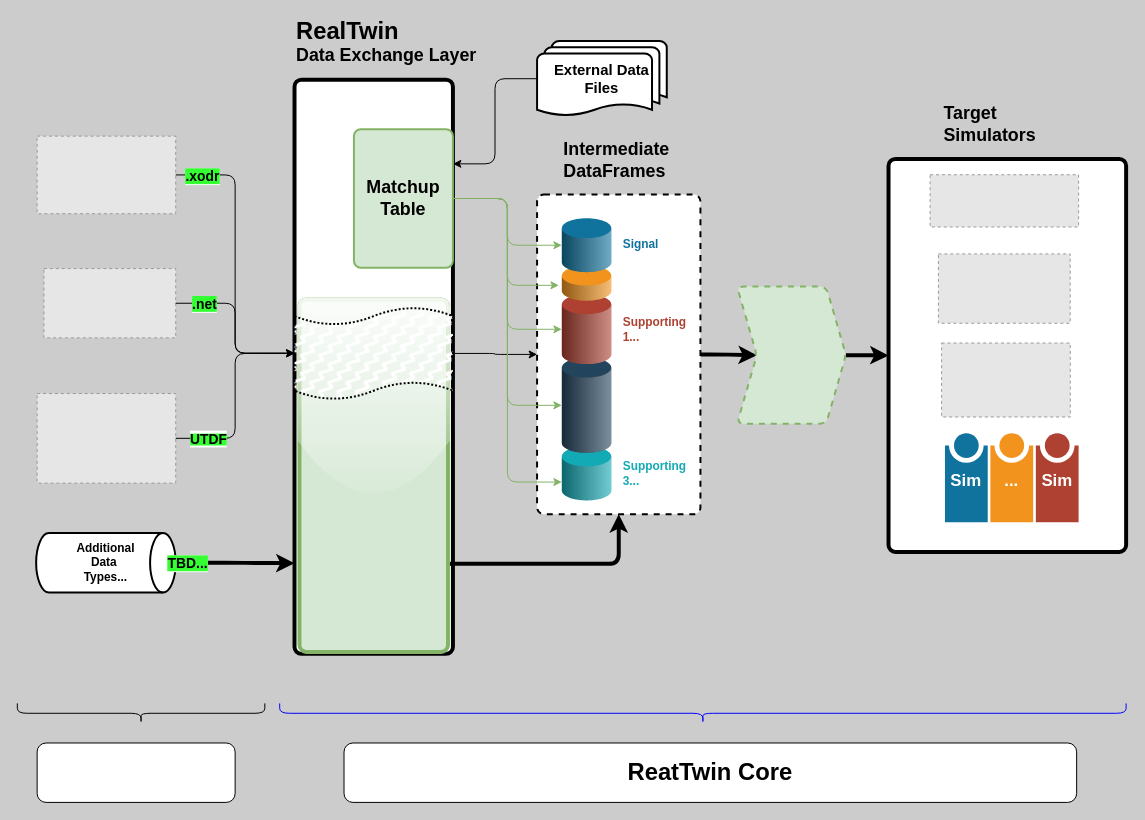
Some shapes in this 1145 by 820 pixel diagram are drawn without their labels. Grey dashed boxes stand in for pictures. The box of each missing label's shape, as (x1, y1, x2, y2) in pixels:
Accepted data types as direct inputs for RealTwin: (36, 742, 235, 802)
Convert Tools: (736, 285, 846, 424)
Database: (297, 297, 449, 653)
Supporting 2...: (561, 357, 611, 452)
Trun/Flow: (561, 265, 611, 300)
